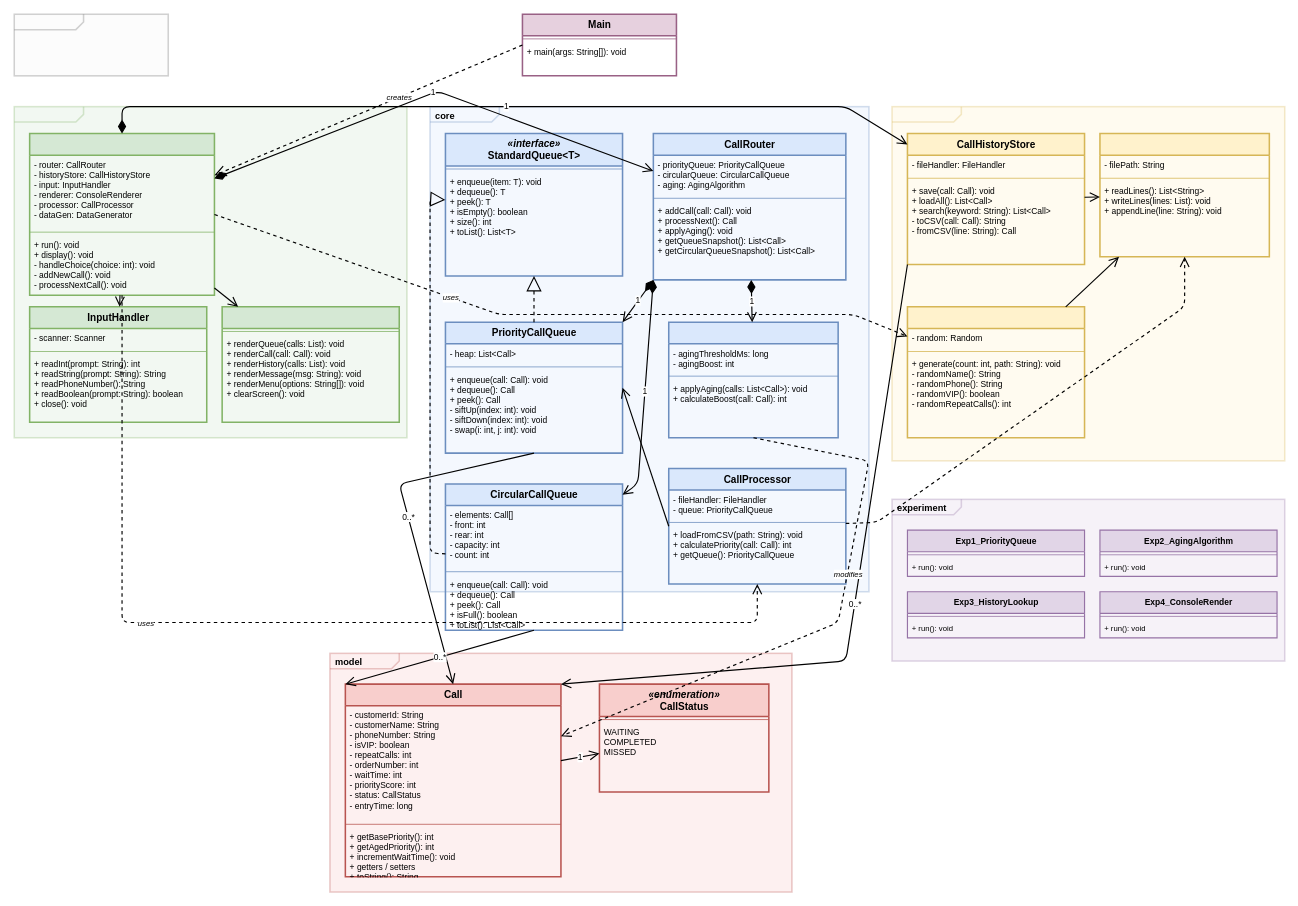
Some shapes in this 1298 by 906 pixel diagram are drawn without their labels. The shapes that lost their labels are listed below. From the top down, each one's box as (x1, y1, x2, y2) in pixels, then its label:
(13, 13, 169, 76): config
(28, 132, 215, 296): MainMenu
(1099, 132, 1270, 257): FileHandler
(13, 105, 407, 438): ui
(891, 105, 1285, 461): storage
(221, 306, 400, 423): ConsoleRenderer
(668, 321, 839, 438): AgingAlgorithm
(906, 306, 1085, 438): DataGenerator
